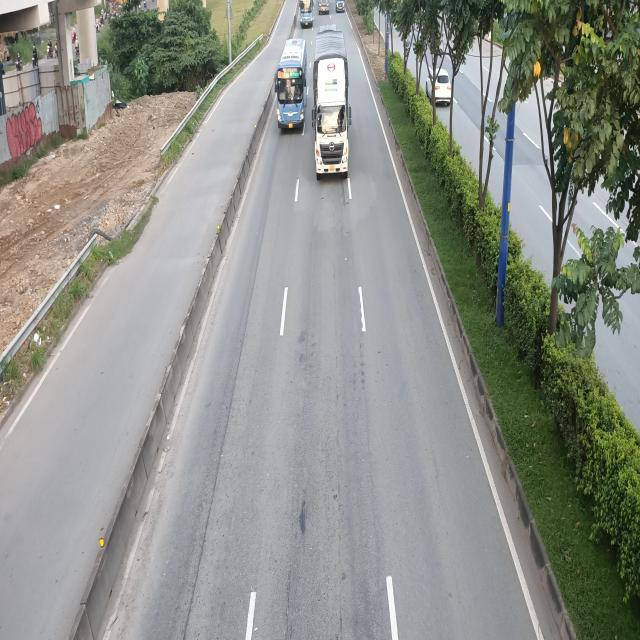coach: (274, 39, 308, 135), (300, 2, 314, 26)
truck: (312, 32, 353, 182)
